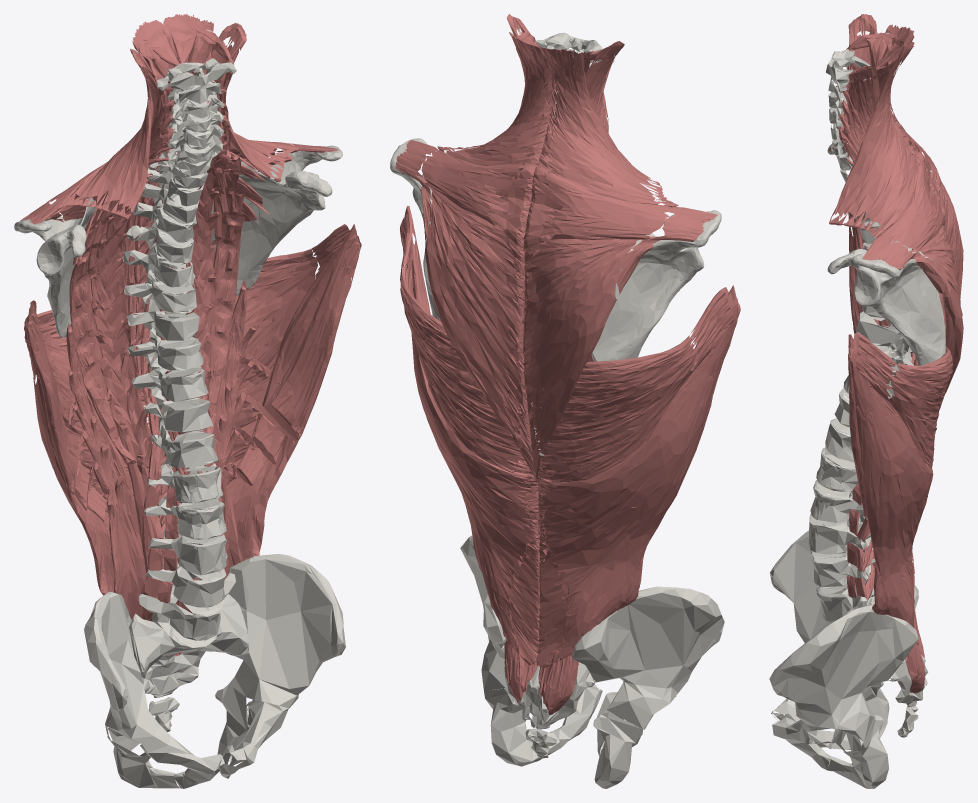
Rendered from v3-musc-back.glb.
3 views of the same model, side by side, from view 1: azimuth 30°, elevation 25°; view 2: azimuth 150°, elevation 25°; view 3: azimuth 270°, elevation 25° (orthographic). The views are drawn at different scales.
Visible parts, largest first — view 1: Latissimus dorsi muscle.l#69, Hip bone.l#95, Longissimus thoracis muscle.r#31, Latissimus dorsi muscle.r#81, Iliocostalis lumborum muscle.r#37, Scapula.l#100, Hip bone.r#99, Sacrum#191, Iliocostalis thoracis muscle.l#33, Iliocostalis lumborum muscle.l#34, Iliocostalis thoracis muscle.r#36, Longissimus thoracis muscle.l#30 (+47 smaller); view 2: Latissimus dorsi muscle.r#81, Latissimus dorsi muscle.l#69, Descending part of trapezius muscle.l#55, Descending part of trapezius muscle.r#61, Hip bone.r#99, Ascending part of trapezius muscle.r#63, Scapula.r#102, Latissimus dorsi muscle.r#80, Transverse part of trapezius muscle.r#59, Latissimus dorsi muscle.l#68, Transverse part of trapezius muscle.l#53, Ascending part of trapezius muscle.l#57 (+16 smaller); view 3: Latissimus dorsi muscle.l#69, Hip bone.l#95, Ascending part of trapezius muscle.l#57, Scapula.l#100, Hip bone.r#99, Latissimus dorsi muscle.l#68, Descending part of trapezius muscle.l#55, Transverse part of trapezius muscle.l#53, Hip bone.l#92, Vertebra L3#104, Vertebra L4#110, Hip bone.l#93 (+29 smaller).
Boxes of the visible parts, box(x1,y1,x2,y2) form: Latissimus dorsi muscle.l#69: box(229, 249, 351, 564); Hip bone.l#95: box(228, 554, 345, 708); Longissimus thoracis muscle.r#31: box(90, 165, 158, 619); Latissimus dorsi muscle.r#81: box(24, 310, 154, 595); Iliocostalis lumborum muscle.r#37: box(66, 323, 147, 622); Scapula.l#100: box(210, 145, 342, 295); Hip bone.r#99: box(84, 591, 160, 743); Sacrum#191: box(131, 593, 248, 697); Iliocostalis thoracis muscle.l#33: box(206, 155, 244, 437); Iliocostalis lumborum muscle.l#34: box(174, 281, 259, 672); Iliocostalis thoracis muscle.r#36: box(69, 179, 147, 464); Longissimus thoracis muscle.l#30: box(175, 150, 230, 604); Latissimus dorsi muscle.r#81: box(531, 335, 730, 662); Latissimus dorsi muscle.l#69: box(400, 237, 533, 652); Descending part of trapezius muscle.l#55: box(425, 187, 522, 448); Descending part of trapezius muscle.r#61: box(524, 233, 641, 453); Hip bone.r#99: box(572, 586, 724, 729); Ascending part of trapezius muscle.r#63: box(545, 55, 660, 204); Scapula.r#102: box(591, 210, 721, 361); Latissimus dorsi muscle.r#80: box(527, 285, 740, 667); Transverse part of trapezius muscle.r#59: box(544, 171, 675, 239); Latissimus dorsi muscle.l#68: box(400, 205, 539, 664); Transverse part of trapezius muscle.l#53: box(421, 150, 524, 226); Ascending part of trapezius muscle.l#57: box(446, 42, 548, 178); Latissimus dorsi muscle.l#69: box(849, 346, 952, 627); Hip bone.l#95: box(769, 604, 918, 742); Ascending part of trapezius muscle.l#57: box(831, 64, 918, 229); Scapula.l#100: box(827, 241, 945, 365); Hip bone.r#99: box(770, 523, 918, 642); Latissimus dorsi muscle.l#68: box(848, 333, 918, 644); Descending part of trapezius muscle.l#55: box(912, 224, 963, 410); Transverse part of trapezius muscle.l#53: box(878, 162, 943, 252); Hip bone.l#92: box(827, 713, 888, 788); Vertebra L3#104: box(808, 514, 873, 554); Vertebra L4#110: box(810, 551, 875, 587); Hip bone.l#93: box(772, 717, 831, 770).
Size of the model in its own units: 0.4749 by 1 by 0.2414.
